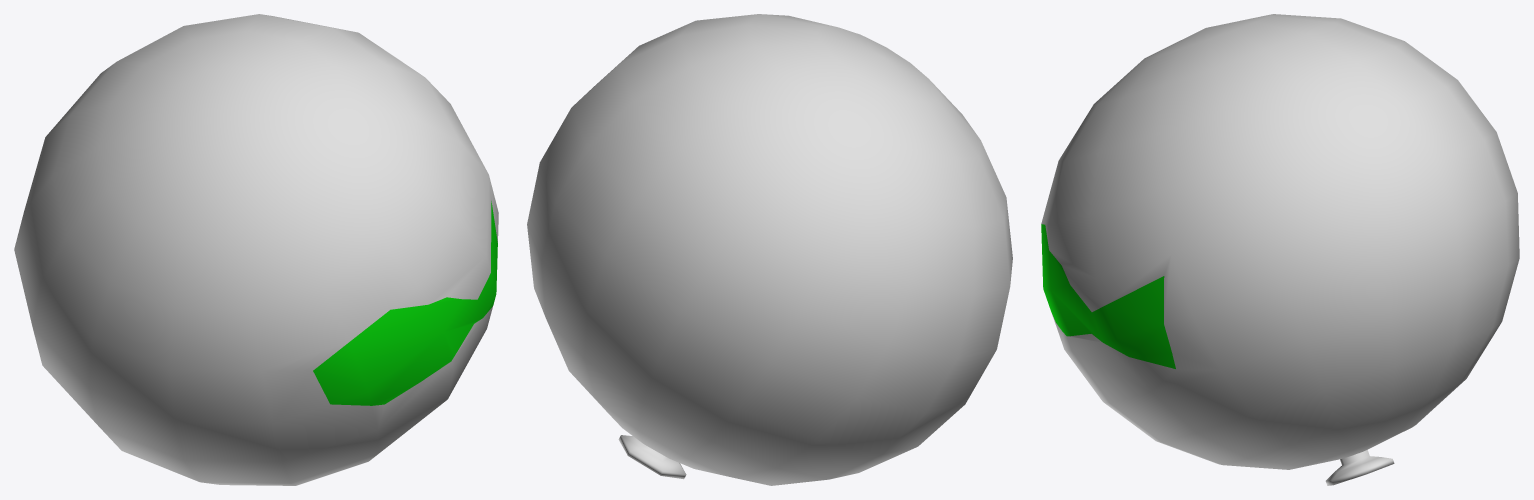
Rendered from fishalt.fbx.
3 views of the same model, side by side, from view 1: azimuth 30°, elevation 25°; view 2: azimuth 150°, elevation 25°; view 3: azimuth 270°, elevation 25° (orthographic).
Visible parts, largest first — view 1: Sphere; view 2: Sphere; view 3: Sphere.
Boxes of the visible parts, bbox=[...] form: Sphere: bbox=[14, 14, 498, 485]; Sphere: bbox=[527, 14, 1012, 485]; Sphere: bbox=[1041, 14, 1519, 485].
Size of the model in its own units: 197 by 189 by 196.
